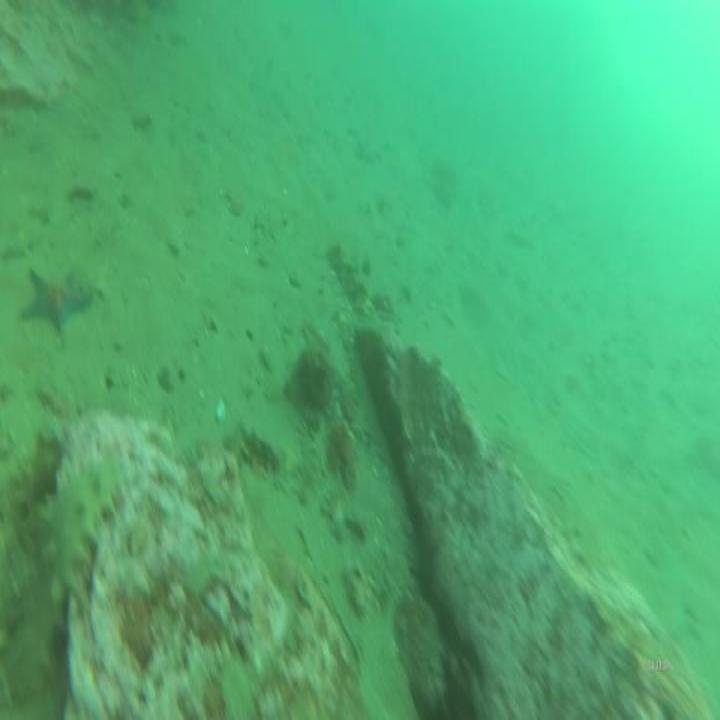holothurian: (33, 450, 125, 613)
starfish: (22, 263, 95, 338)
